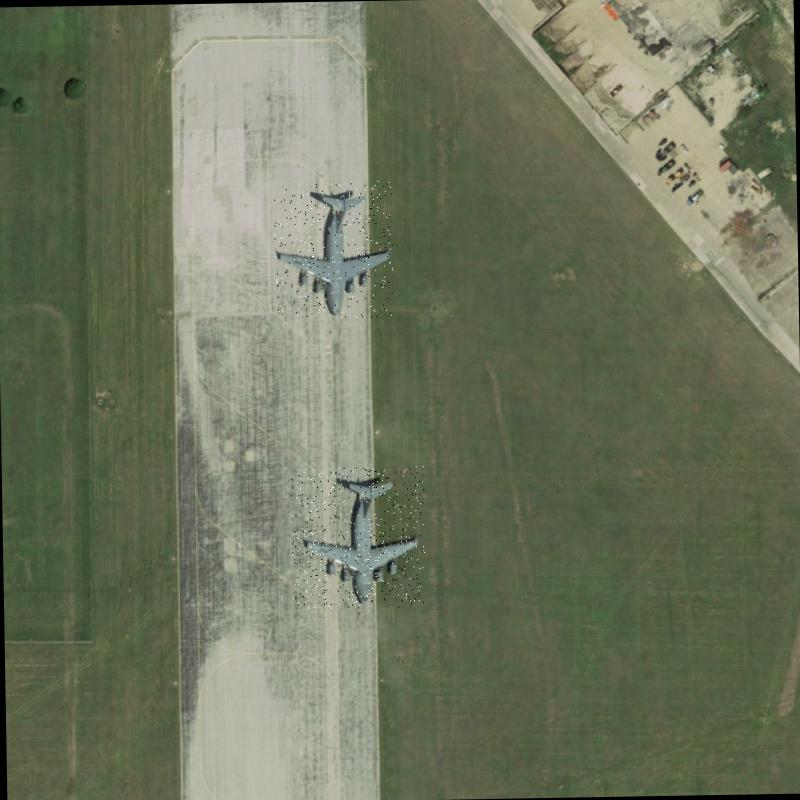A3: (290, 466, 426, 609), (274, 180, 394, 319)
